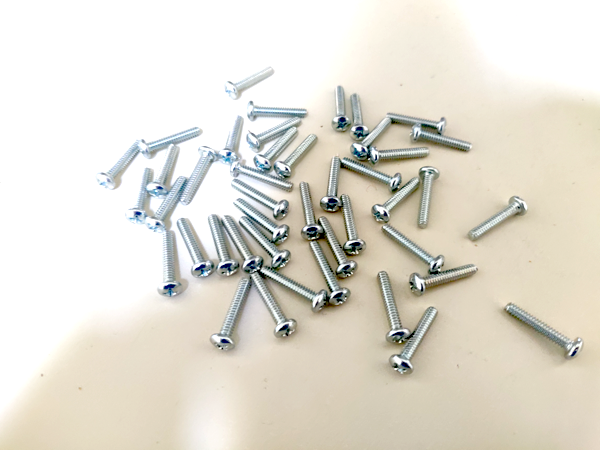longscrew: (502, 303, 581, 355), (389, 306, 442, 378), (248, 274, 295, 337), (382, 225, 445, 272), (370, 273, 410, 344), (304, 243, 347, 309), (469, 195, 528, 242), (233, 196, 289, 245), (264, 267, 326, 310), (213, 281, 251, 351), (236, 217, 289, 267), (232, 178, 294, 220), (315, 215, 353, 277), (221, 215, 263, 271), (99, 136, 140, 190), (232, 160, 297, 193), (410, 266, 481, 296), (148, 175, 186, 230), (174, 220, 211, 276), (341, 152, 398, 188), (140, 126, 200, 159), (372, 179, 417, 223), (408, 124, 473, 154), (180, 149, 214, 206), (255, 126, 299, 170), (247, 116, 305, 149), (155, 232, 184, 297), (127, 163, 153, 232), (350, 120, 397, 158), (276, 136, 320, 176), (148, 145, 183, 195), (295, 181, 322, 242), (339, 194, 365, 256), (227, 62, 271, 97), (388, 108, 447, 134), (210, 214, 234, 277), (417, 169, 438, 229), (248, 99, 309, 119), (370, 146, 433, 164), (345, 93, 369, 139), (329, 86, 350, 132), (223, 115, 240, 163), (327, 156, 341, 212)
